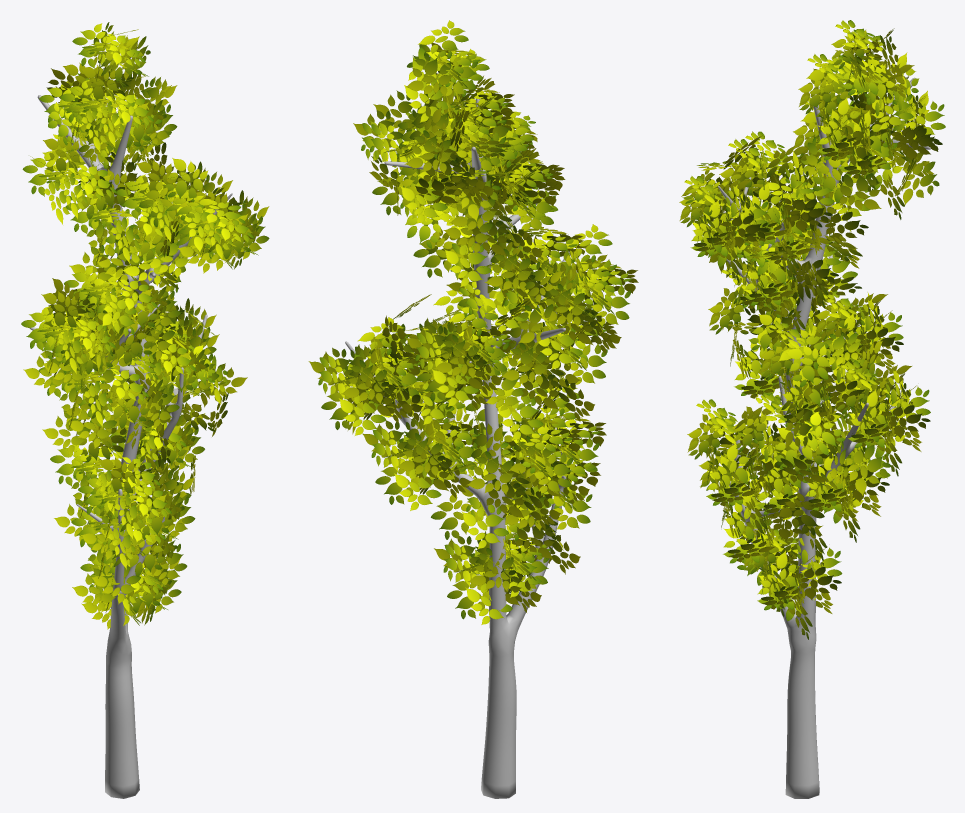
File: Tree1.fbx
3 views of the same model, side by side, from view 1: azimuth 30°, elevation 25°; view 2: azimuth 150°, elevation 25°; view 3: azimuth 270°, elevation 25° (orthographic). The views are drawn at different scales.
Parts seen in each view (by area): view 1: Plane.1706, Plane.002; view 2: Plane.1706, Plane.002; view 3: Plane.1706, Plane.002.
Boxes of the visible parts, box(x1,y1,x2,y2) form: Plane.1706: box(21, 22, 269, 629); Plane.002: box(29, 95, 232, 798); Plane.1706: box(308, 20, 638, 624); Plane.002: box(345, 98, 570, 798); Plane.1706: box(679, 20, 945, 639); Plane.002: box(718, 77, 930, 798).
Bounding box in the file's own units: 3306 × 9226 × 2935.
